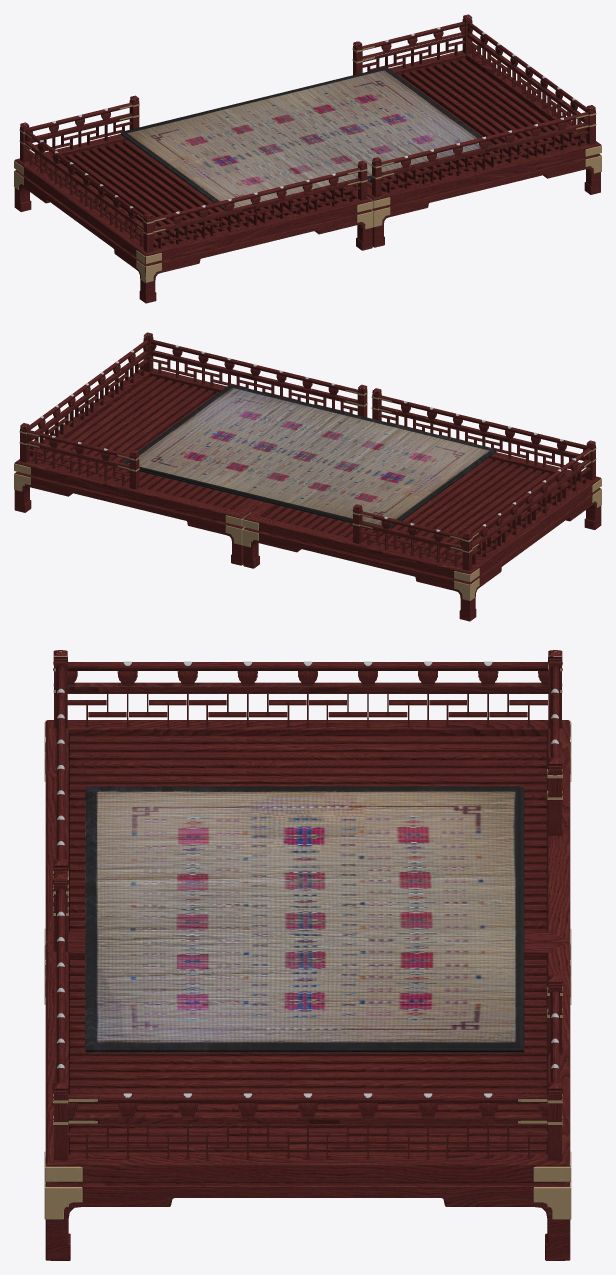
The model's file is gb_pyeong.glb.
3 views of the same model, one above another, from view 1: azimuth 30°, elevation 25°; view 2: azimuth 150°, elevation 25°; view 3: azimuth 270°, elevation 25° (orthographic). The views are drawn at different scales.
Parts seen in each view (by area): view 1: SM_GNJ_Pyeongsang_M_GNJ_Pyeongsang_0.001, SM_GNJ_Mat, SM_GNJ_Pyeongsang, SM_GNJ_Pyeongsang_M_GNJ_Pyeongsang_0.002; view 2: SM_GNJ_Pyeongsang_M_GNJ_Pyeongsang_0.001, SM_GNJ_Mat, SM_GNJ_Pyeongsang, SM_GNJ_Pyeongsang_M_GNJ_Pyeongsang_0.002; view 3: SM_GNJ_Mat, SM_GNJ_Pyeongsang_M_GNJ_Pyeongsang_0.001, SM_GNJ_Pyeongsang.
Boxes of the visible parts, left/top/right/bottom form: SM_GNJ_Pyeongsang_M_GNJ_Pyeongsang_0.001: left=14, top=14, right=601, bottom=263; SM_GNJ_Mat: left=120, top=67, right=492, bottom=210; SM_GNJ_Pyeongsang: left=15, top=44, right=588, bottom=303; SM_GNJ_Pyeongsang_M_GNJ_Pyeongsang_0.002: left=14, top=141, right=373, bottom=303; SM_GNJ_Pyeongsang_M_GNJ_Pyeongsang_0.001: left=14, top=332, right=601, bottom=600; SM_GNJ_Mat: left=121, top=384, right=496, bottom=528; SM_GNJ_Pyeongsang: left=53, top=339, right=600, bottom=620; SM_GNJ_Pyeongsang_M_GNJ_Pyeongsang_0.002: left=243, top=459, right=601, bottom=621; SM_GNJ_Mat: left=85, top=786, right=524, bottom=1052; SM_GNJ_Pyeongsang_M_GNJ_Pyeongsang_0.001: left=44, top=720, right=571, bottom=1260; SM_GNJ_Pyeongsang: left=45, top=650, right=570, bottom=1089.
Bounding box in the file's own units: 2.93 × 0.528 × 1.47.
Materials: 2 (2 with a texture image).
